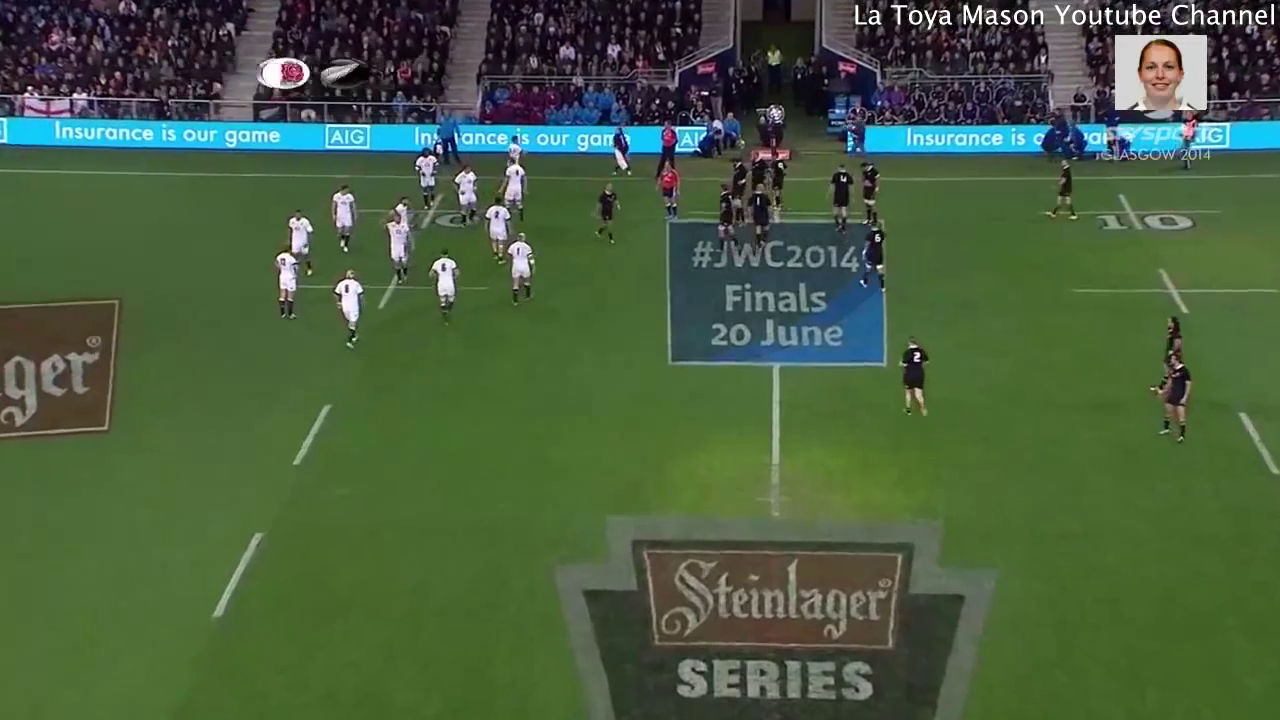player: (329, 268, 369, 349), (897, 338, 933, 419), (1040, 160, 1082, 228), (426, 248, 466, 319), (324, 182, 361, 258), (1155, 352, 1186, 442), (281, 211, 317, 283), (503, 228, 536, 304), (268, 244, 300, 320), (381, 210, 411, 284), (861, 220, 888, 300), (745, 181, 776, 248), (823, 164, 852, 234), (497, 161, 530, 221), (411, 145, 440, 212), (449, 163, 479, 227), (855, 157, 882, 224), (591, 183, 617, 252), (659, 159, 685, 224), (481, 203, 507, 264), (712, 187, 739, 245), (1156, 313, 1190, 358), (766, 149, 787, 214), (726, 155, 752, 200), (746, 149, 773, 192), (395, 196, 418, 240), (505, 135, 523, 161)
